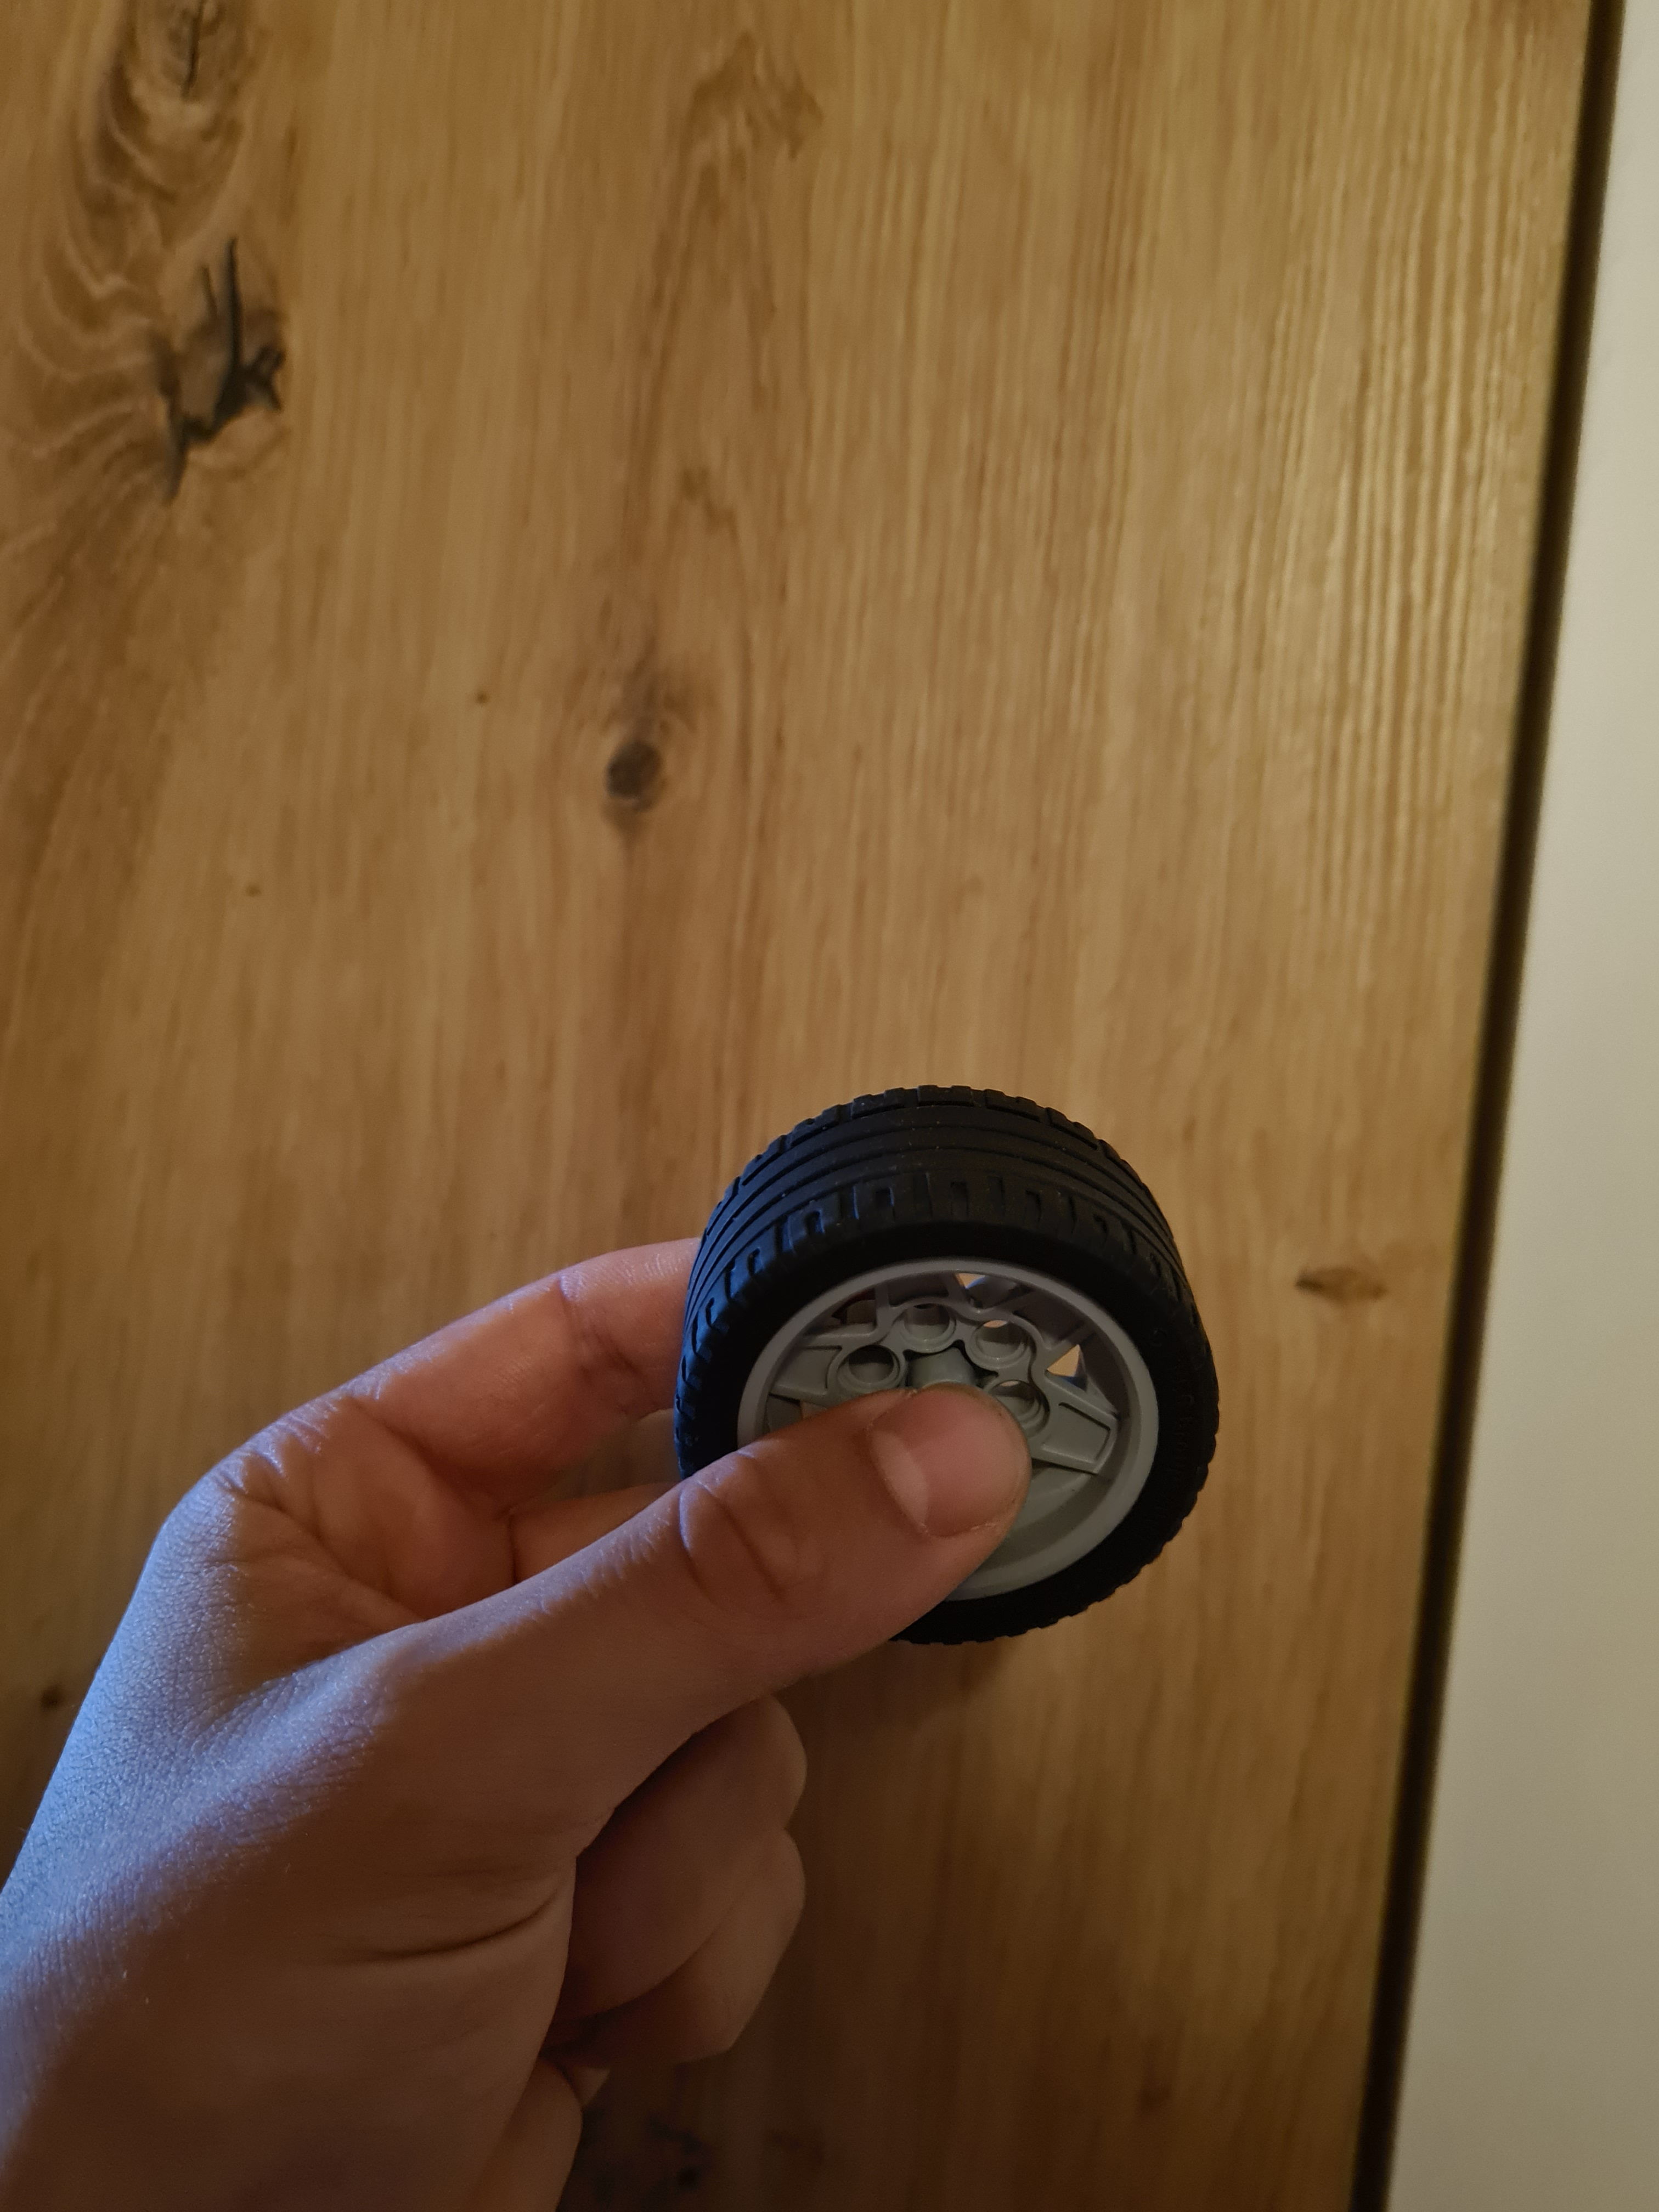Rad: (657, 1055, 1234, 1660)
